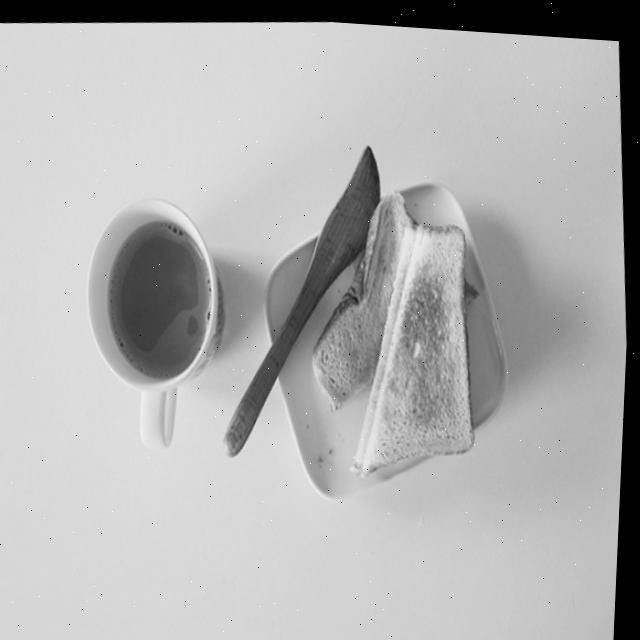面包点心: (225, 82, 572, 566)
